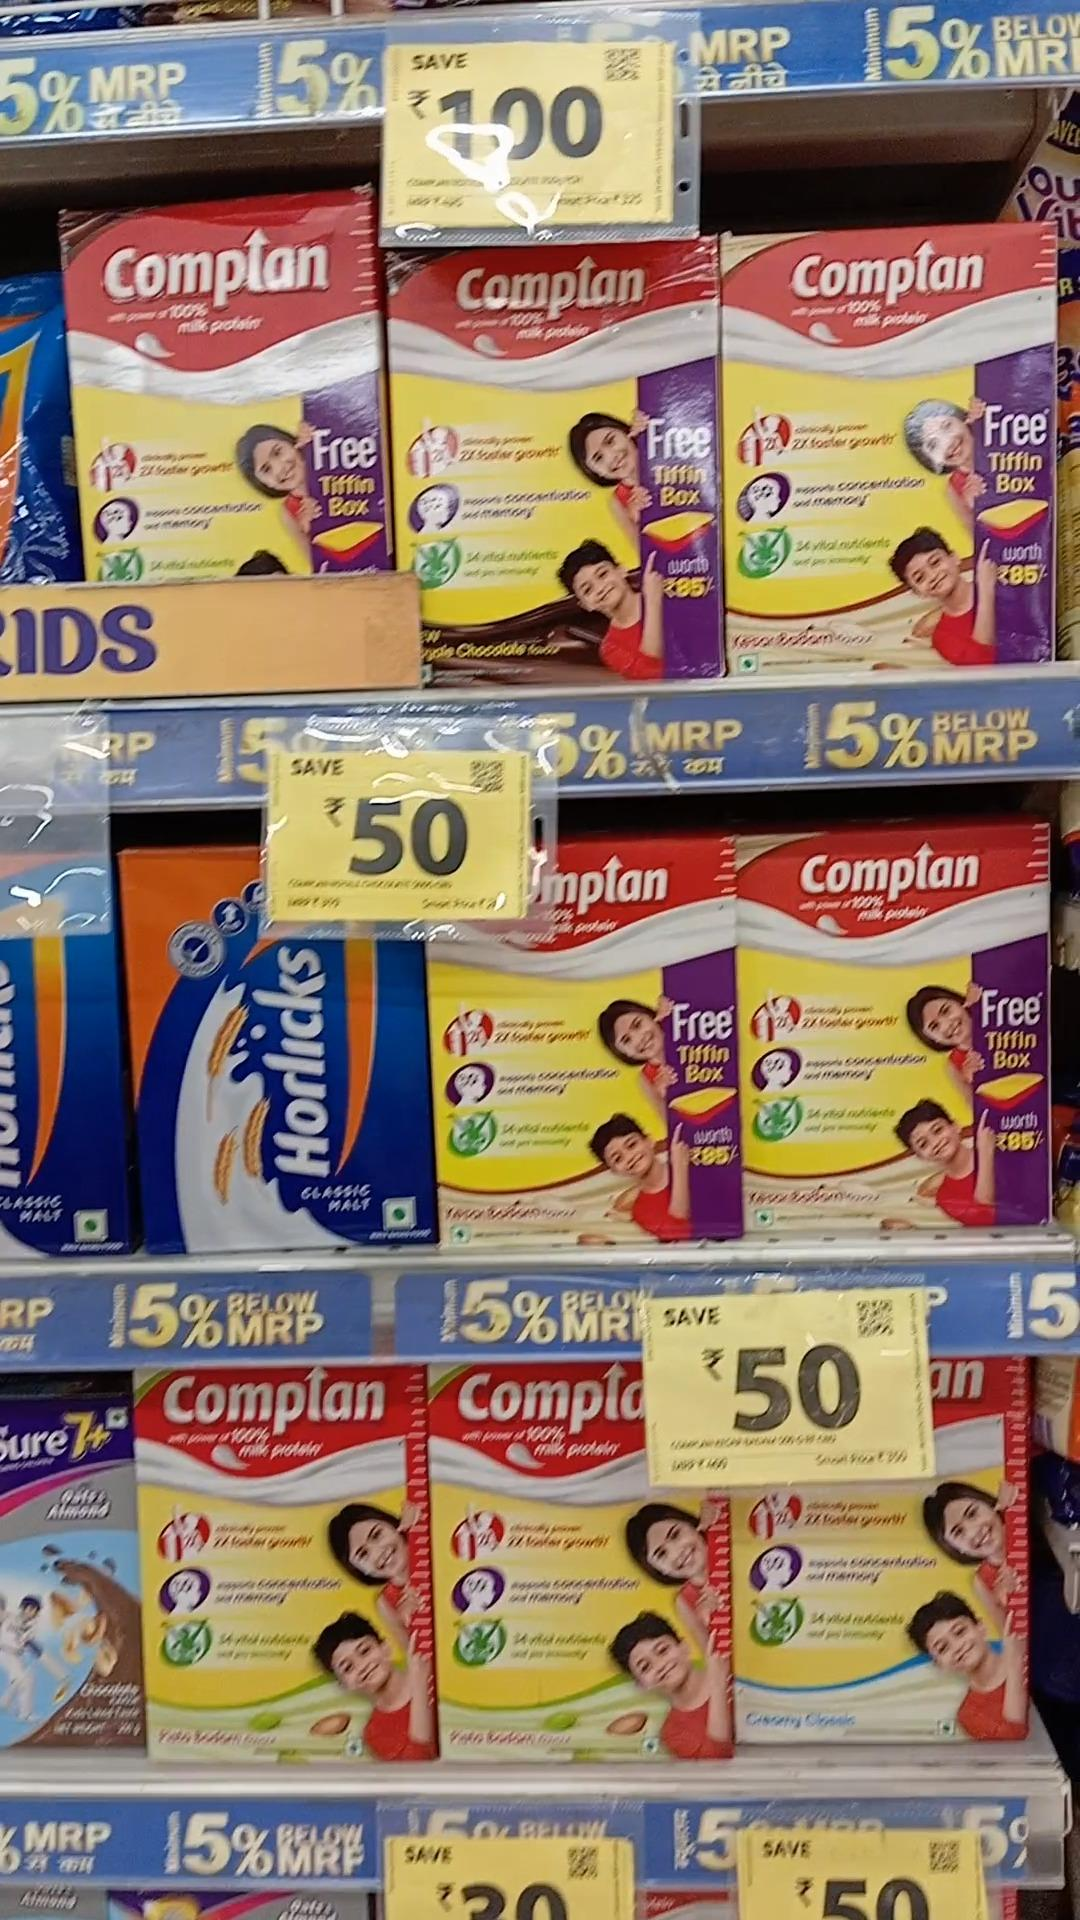COMPLAN_CHOCOLATE_500_GMS_PACK: (392, 241, 724, 683), (70, 182, 378, 583)
COMPLAN_KESAR_BADAM_500_GMS_PACK: (725, 220, 1054, 666), (738, 812, 1052, 1240), (434, 840, 731, 1245)
COMPLAN_PISTA_BADAM_500_GMS_PACK: (431, 1360, 733, 1783), (144, 1360, 417, 1753)
HORLICK_CLASSIC_MALT_500_G_PACK: (129, 849, 431, 1245)
